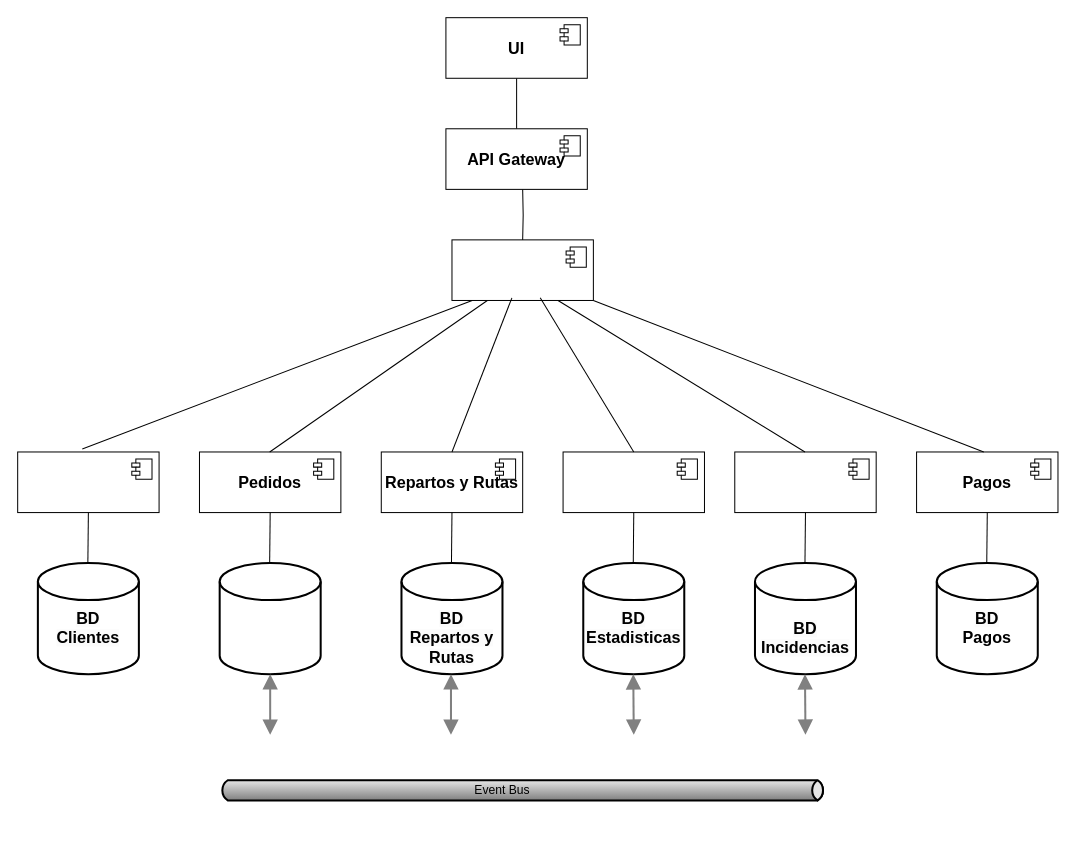
This 1076x865 diagram has some shape labels left out. The shapes that lost their labels are listed below. From the top down, each one's centre as x and y in pixels, then its label:
At point 522,269: "API REST".
At point 88,482: "Clientes".
At point 633,482: "Estadisticas".
At point 805,482: "Incidencias".
At point 269,618: "BD Pedidos".
